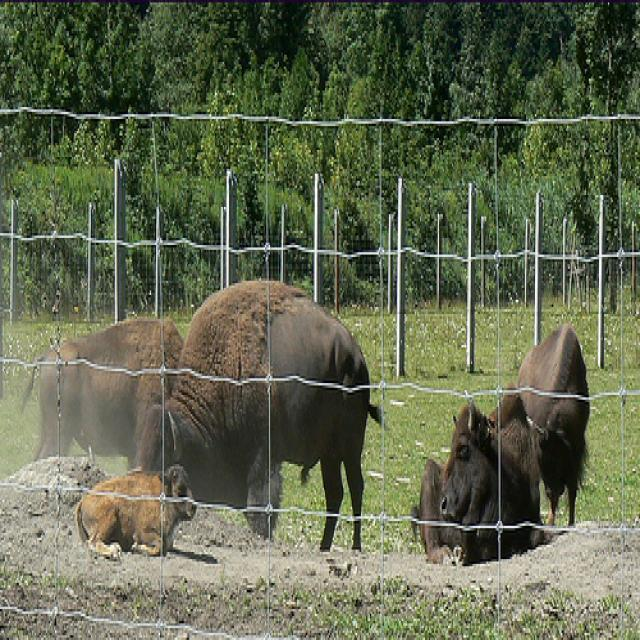cow: (133, 278, 306, 533), (262, 291, 383, 555), (406, 376, 552, 564), (19, 314, 183, 466), (516, 317, 589, 524), (72, 457, 193, 559)
